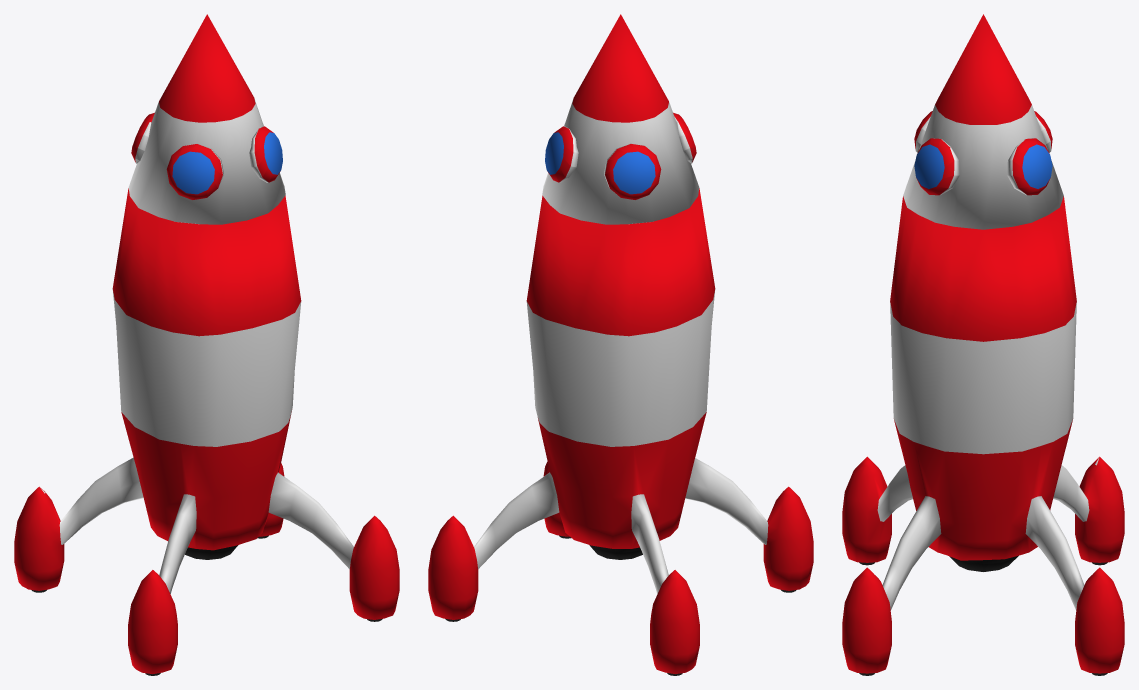
Rendered from rocket.fbx.
3 renders of one model, left to right at view 1: azimuth 30°, elevation 25°; view 2: azimuth 150°, elevation 25°; view 3: azimuth 270°, elevation 25°, orthographic. The views are drawn at different scales.
Parts seen in each view (by area): view 1: RocketBody, RocketCap; view 2: RocketBody, RocketCap; view 3: RocketBody, RocketCap.
Part boxes in pixels (x1,y1,x2,y2): RocketBody: [14, 188, 399, 675]; RocketCap: [128, 14, 285, 224]; RocketBody: [428, 188, 813, 675]; RocketCap: [542, 14, 699, 224]; RocketBody: [842, 196, 1124, 675]; RocketCap: [903, 14, 1063, 229].
Size of the model in its own units: 412 by 881 by 374.
